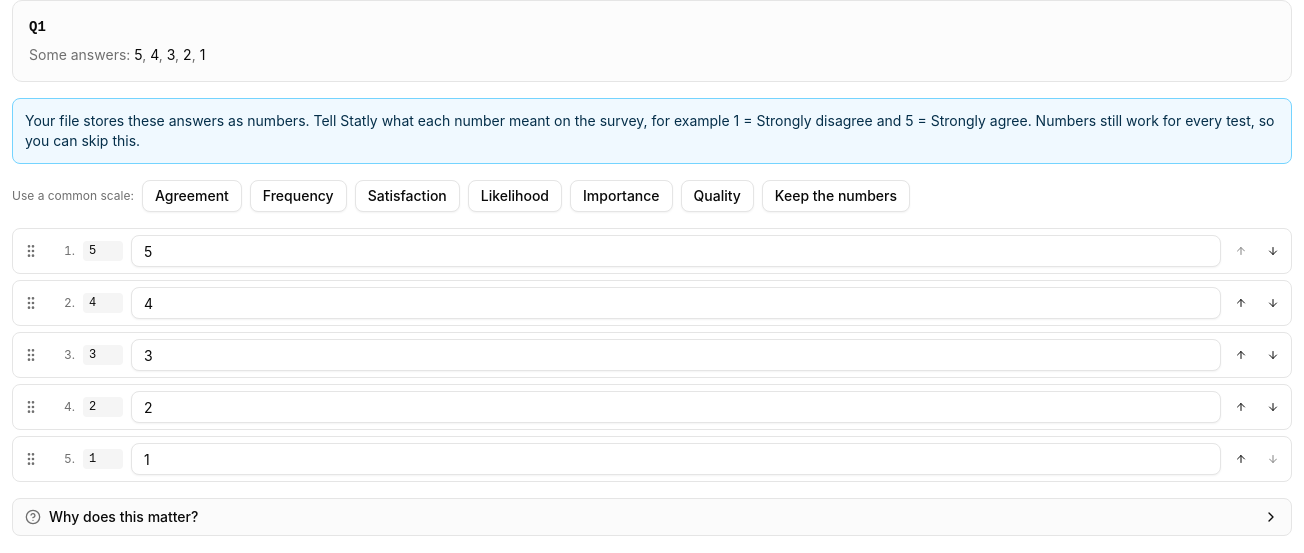
Scenario: StepLabels: numeric-coded export with no text labels › keeps codes attached to their rows when the observed codes run high-to-low
What coordinates should you click on to do the following:
click the button "Agreement"
I would click on:
 (192, 196)
Its box is [142, 180, 242, 212].
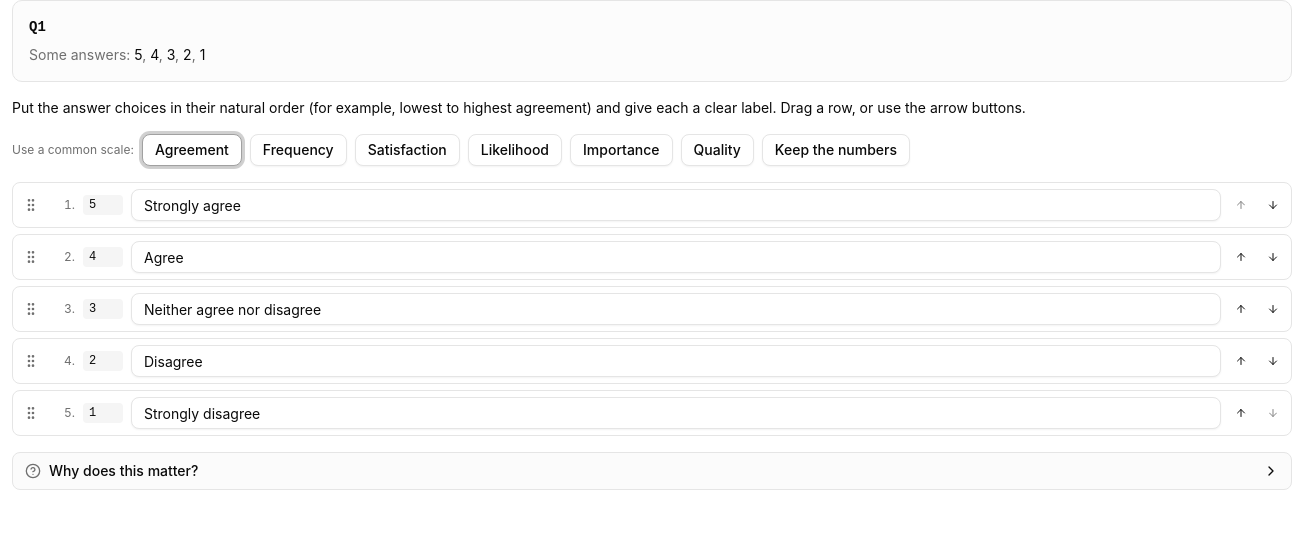
Expected: the field named "Label for value 5" holds "Strongly agree", [131, 189, 1221, 221]
Expected: the field named "Label for value 1" holds "Strongly disagree", [131, 397, 1221, 429]
